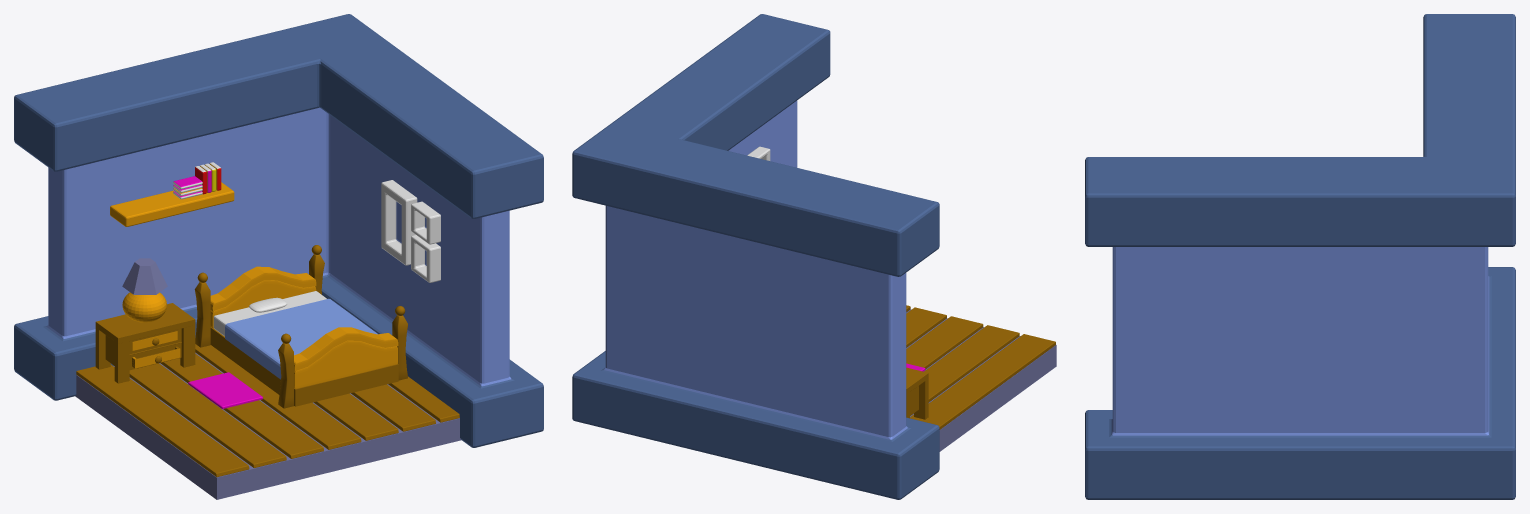
File: Iso_Room.glb
3 views of the same model, side by side, from view 1: azimuth 30°, elevation 25°; view 2: azimuth 150°, elevation 25°; view 3: azimuth 270°, elevation 25° (orthographic). The views are drawn at different scales.
Parts seen in each view (by area): view 1: Cube, Plane.001, Plane, Plane.003, Drawer, Plane.005, Cube.001, Cube.002, Bed_Pillar, Plane.002, Plane.007, Cylinder (+2 smaller); view 2: Cube, Plane.001, Plane, Drawer; view 3: Cube.
Boxes of the visible parts, bbox=[...] form: Cube: bbox=[14, 14, 543, 447]; Plane.001: bbox=[76, 344, 459, 477]; Plane: bbox=[75, 352, 461, 499]; Plane.003: bbox=[210, 266, 398, 388]; Drawer: bbox=[95, 303, 195, 383]; Plane.005: bbox=[225, 298, 377, 379]; Cube.001: bbox=[381, 180, 440, 282]; Cube.002: bbox=[110, 162, 234, 226]; Bed_Pillar: bbox=[194, 245, 407, 408]; Plane.002: bbox=[210, 327, 398, 406]; Plane.007: bbox=[188, 372, 262, 408]; Cylinder: bbox=[122, 258, 167, 294]; Cube: bbox=[572, 14, 939, 499]; Plane.001: bbox=[906, 305, 1055, 429]; Plane: bbox=[906, 309, 1056, 451]; Drawer: bbox=[906, 367, 928, 419]; Cube: bbox=[1085, 14, 1515, 499].
Size of what is drawn, in the model's own units: 2.55 by 2 by 2.55.
